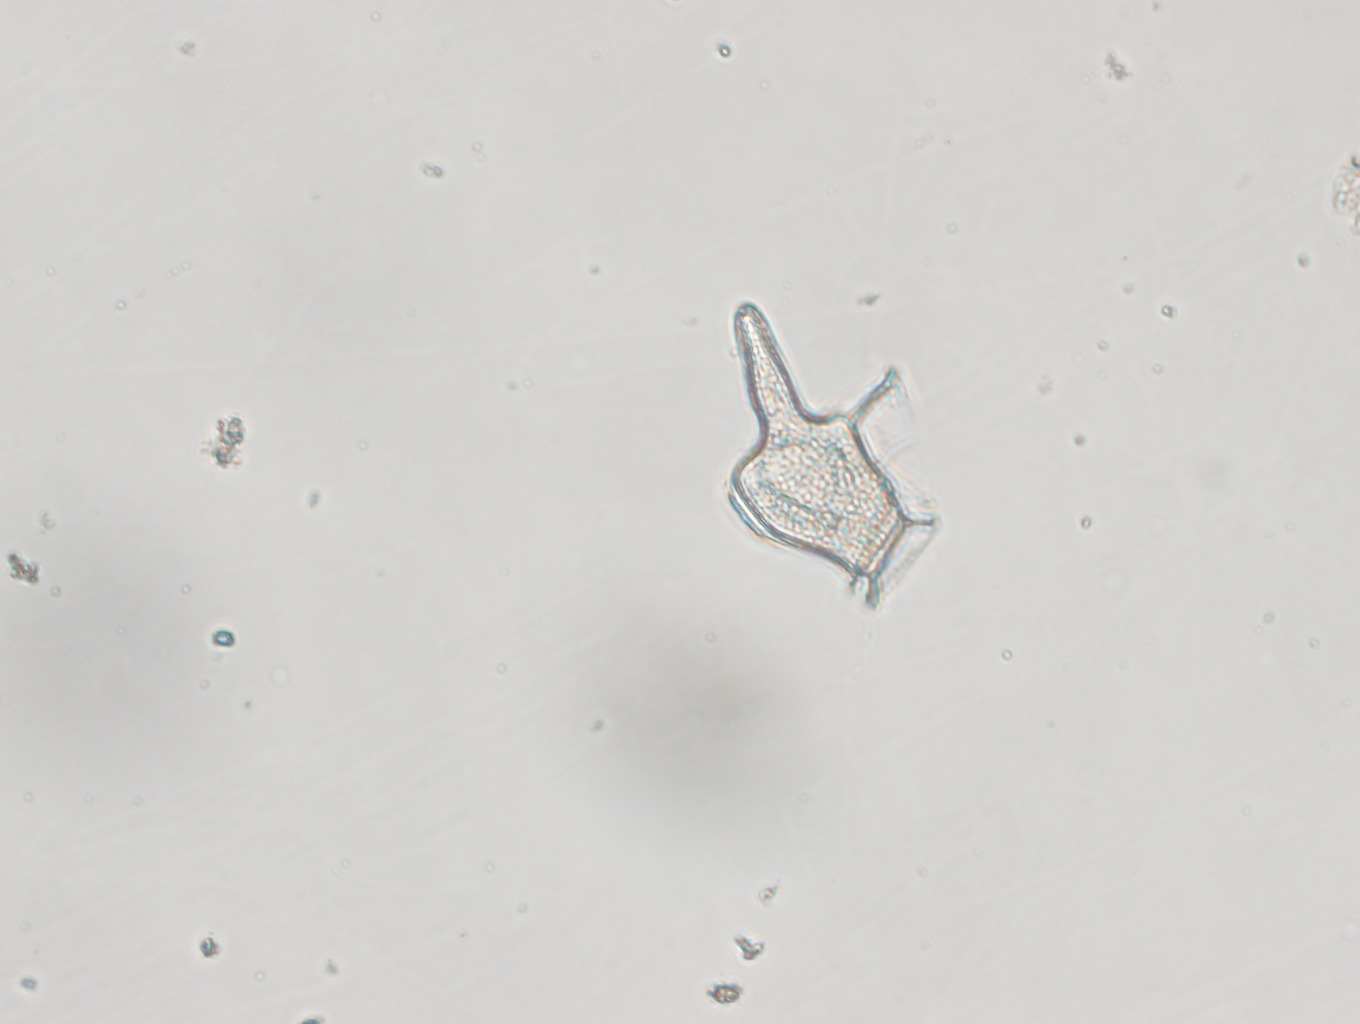dinophysis caudata: (719, 298, 942, 617)
